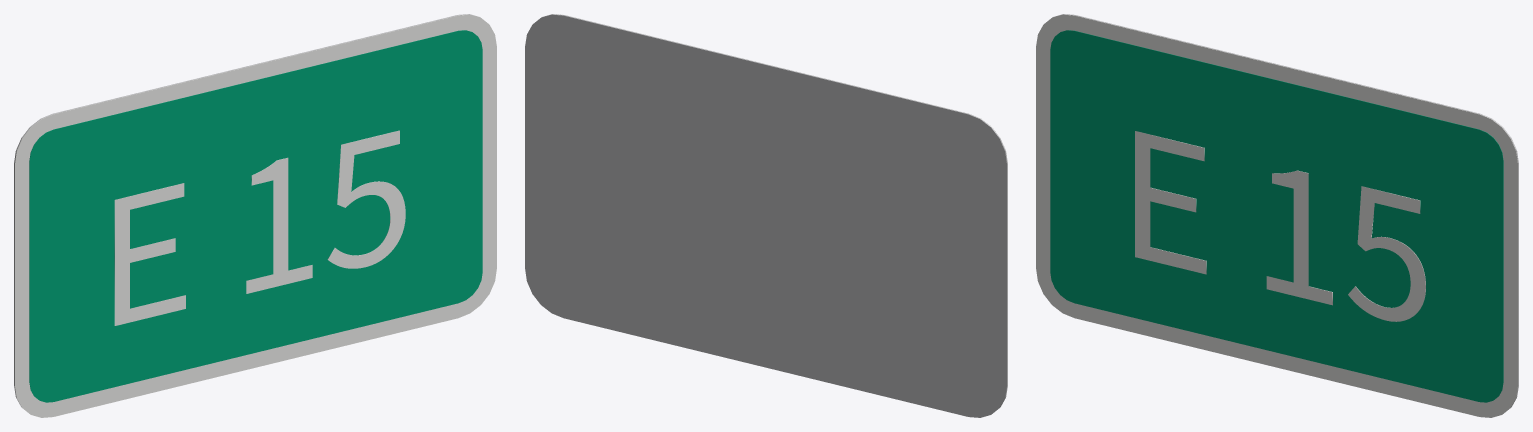
3 views of the same model, side by side, from view 1: azimuth 30°, elevation 25°; view 2: azimuth 150°, elevation 25°; view 3: azimuth 330°, elevation 25° (orthographic).
Visible parts, largest first — view 1: E41_fond01, E41_cadre00, E41_txt02, E41_dos; view 2: E41_dos, E41_cadre00; view 3: E41_fond01, E41_cadre00, E41_txt02, E41_dos.
Part boxes in pixels (left/top/right/bottom): E41_fond01: left=29, top=30, right=482, bottom=402; E41_cadre00: left=14, top=14, right=496, bottom=417; E41_txt02: left=114, top=130, right=405, bottom=325; E41_dos: left=14, top=14, right=480, bottom=407; E41_dos: left=525, top=14, right=1007, bottom=417; E41_cadre00: left=545, top=14, right=1007, bottom=403; E41_fond01: left=1050, top=30, right=1503, bottom=402; E41_cadre00: left=1036, top=14, right=1518, bottom=417; E41_txt02: left=1135, top=131, right=1425, bottom=321; E41_dos: left=1052, top=14, right=1518, bottom=407.
Size of the model in its own units: 0.5 by 0.3 by 0.0025.
